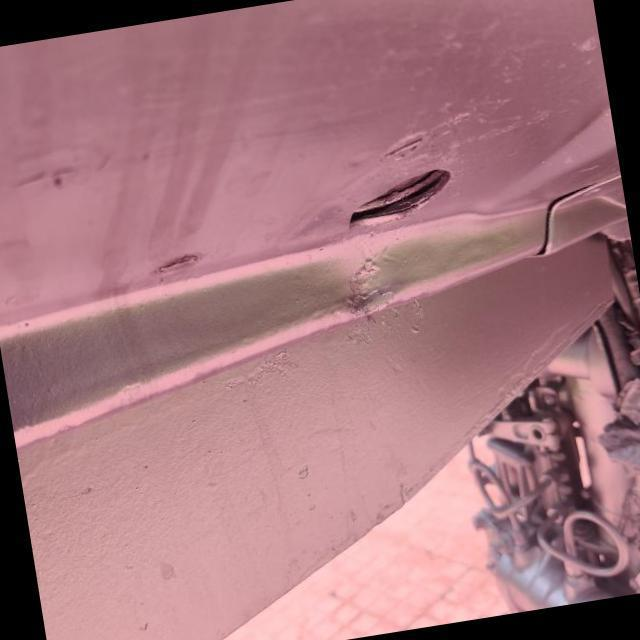Dent: (310, 235, 416, 341)
